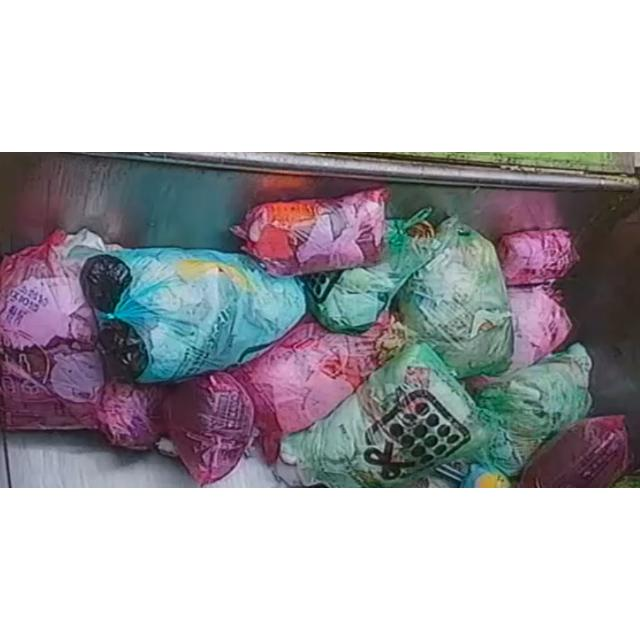general_trashbag: (280, 343, 488, 488), (80, 250, 306, 383), (399, 217, 514, 378), (304, 207, 435, 333), (474, 343, 591, 477)
other_trashbag: (230, 313, 414, 462), (0, 230, 119, 430), (231, 188, 389, 276), (164, 373, 252, 484), (519, 416, 629, 488), (508, 284, 572, 371), (499, 231, 580, 286), (98, 382, 162, 451)
